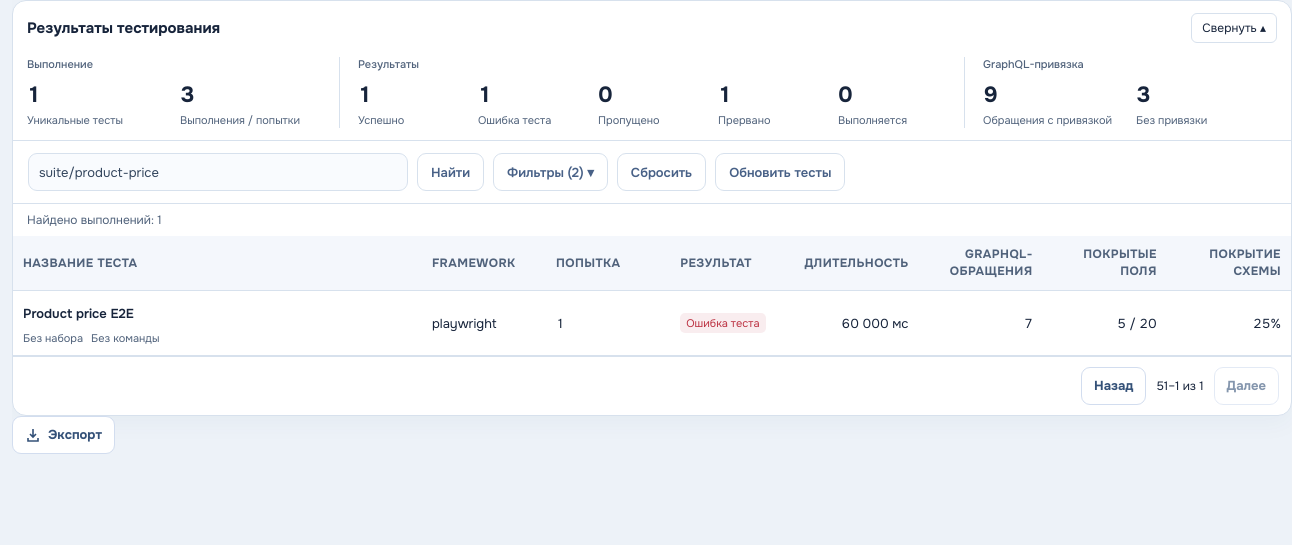
it: does not display stale test rows during fast filter changes or accept their late responses
This screenshot has width=1292, height=545.
Click the button "Фильтры (2) ▾" at (550, 172), box x1=493 y1=153 x2=608 y2=191
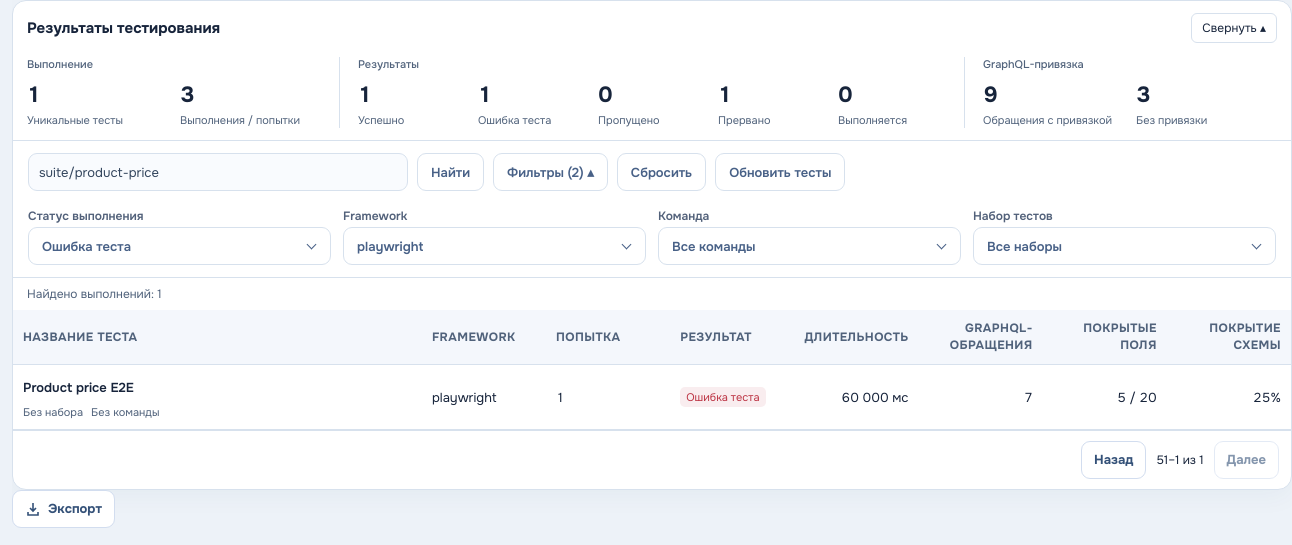
Click the dropdown labelled "Все команды" at (714, 246), box x1=658 y1=227 x2=961 y2=265
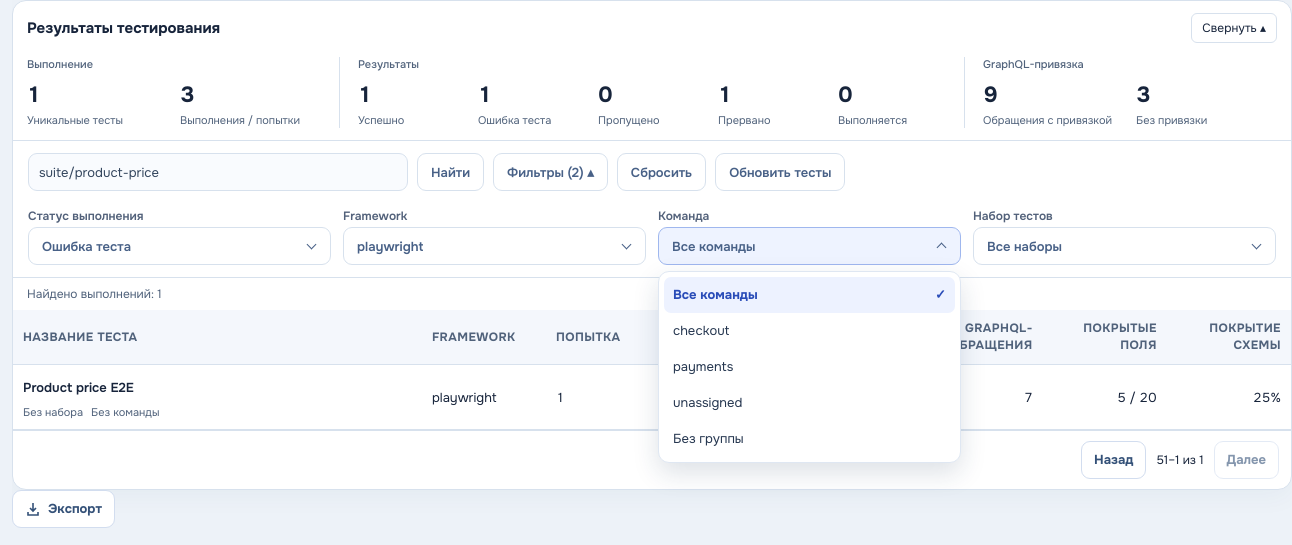
Click the option "checkout" at (701, 331), box x1=673 y1=322 x2=729 y2=339
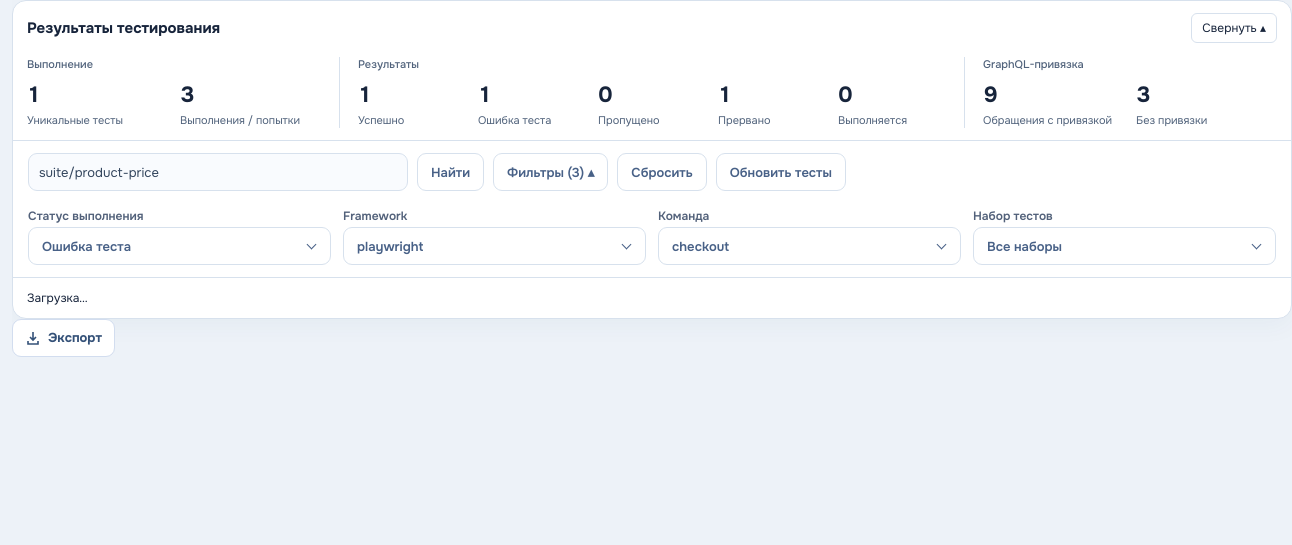
Click the dropdown labelled "checkout" at (701, 246), box x1=658 y1=227 x2=961 y2=265
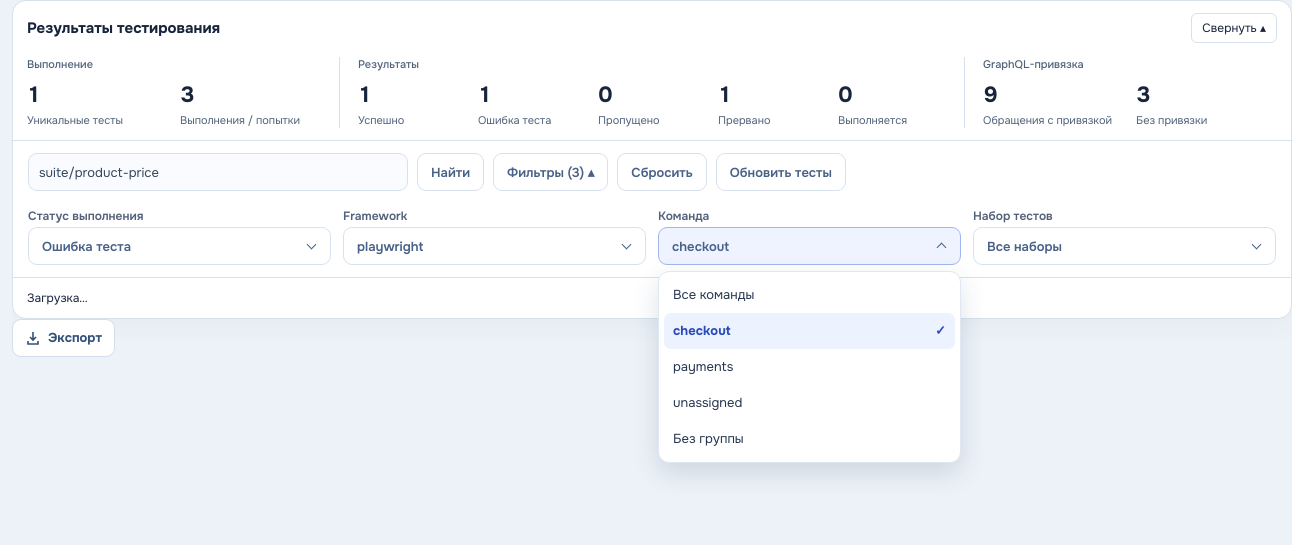
Click the option "payments" at (703, 367), box x1=673 y1=358 x2=733 y2=375
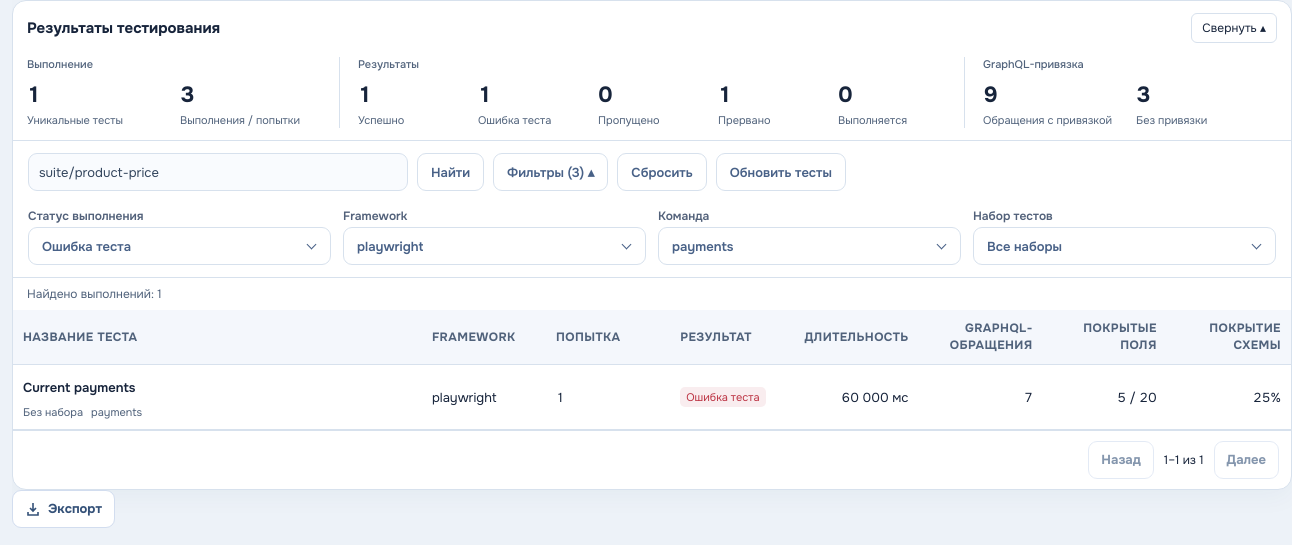
Result: the text "Current payments" is shown at x1=23 y1=375 x2=135 y2=401
